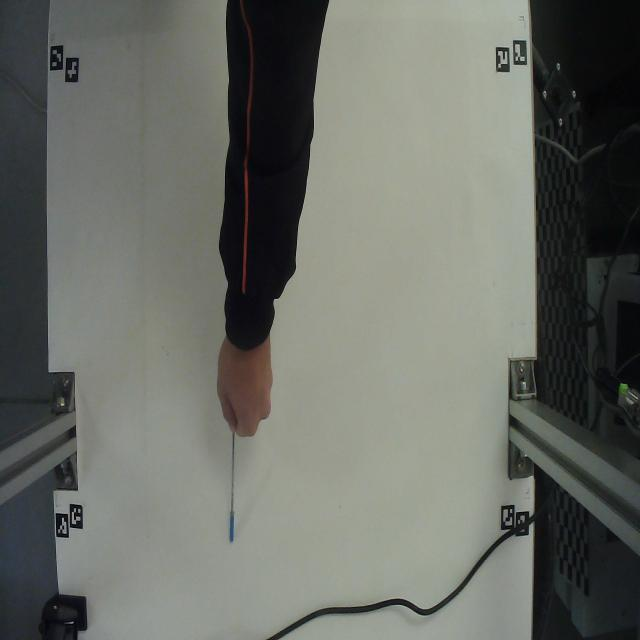Pres: (226, 425, 242, 554)
